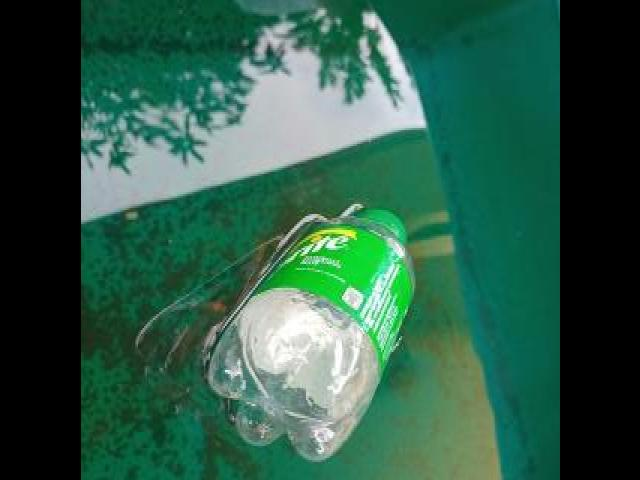Bottle: (205, 200, 416, 466)
